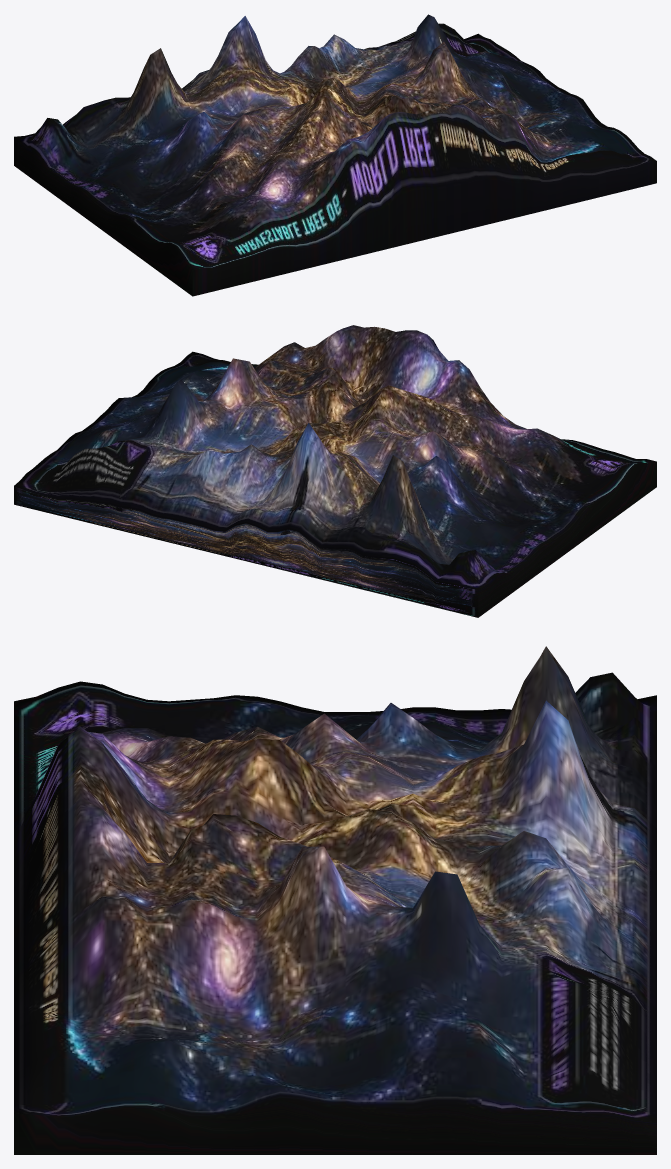
Rendered from TREE_06_World_Tree.glb.
3 views of the same model, one above another, from view 1: azimuth 30°, elevation 25°; view 2: azimuth 150°, elevation 25°; view 3: azimuth 270°, elevation 25° (orthographic). The views are drawn at different scales.
Visible parts, largest first — view 1: TREE_06_World_Tree; view 2: TREE_06_World_Tree; view 3: TREE_06_World_Tree.
Boxes of the visible parts, <box> form: TREE_06_World_Tree: <box>14,14,656,296</box>; TREE_06_World_Tree: <box>14,325,656,617</box>; TREE_06_World_Tree: <box>14,646,656,1154</box>.
Size of the model in its own units: 2 by 0.51 by 1.33.
Materials: 1 (1 with a texture image).
